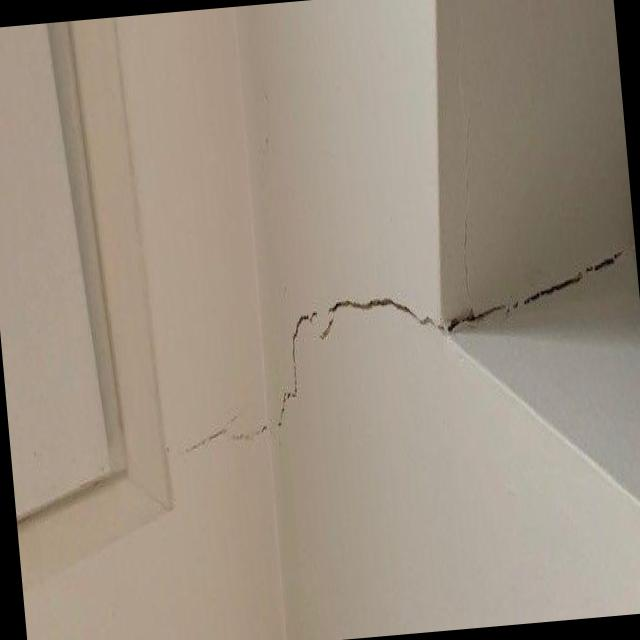crack: (184, 307, 320, 458), (322, 296, 511, 343), (520, 269, 584, 308), (460, 113, 471, 303), (588, 249, 626, 274)
